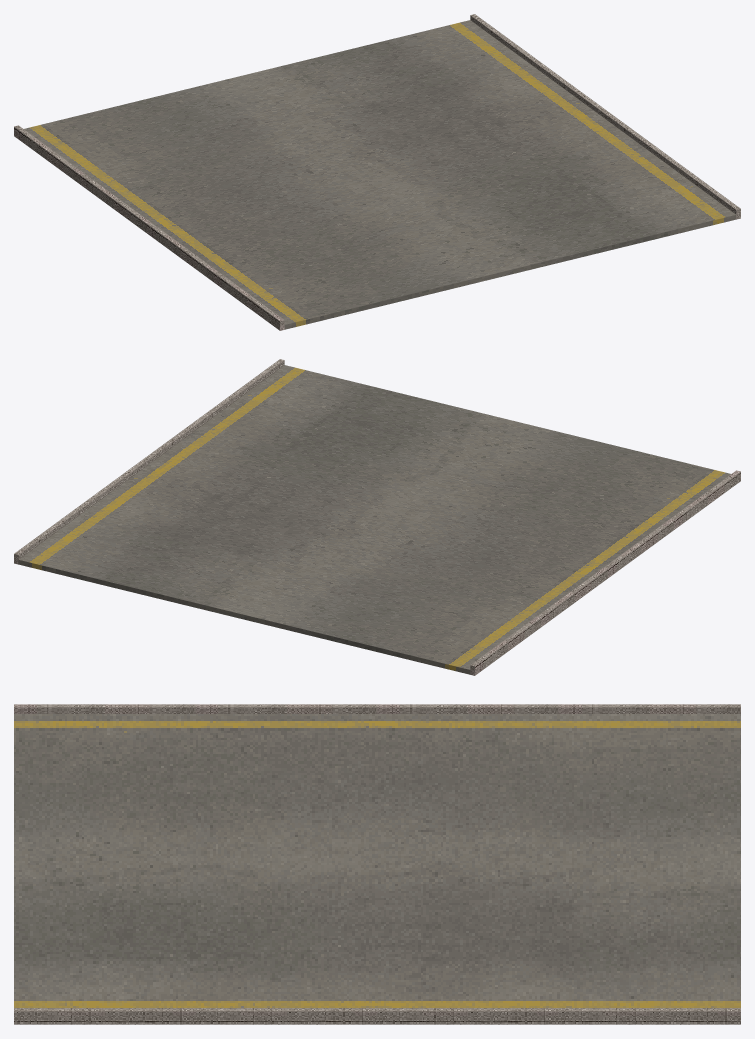
Rendered from road_2_straight_no_sides.glb.
3 renders of one model, top to bottom at view 1: azimuth 30°, elevation 25°; view 2: azimuth 150°, elevation 25°; view 3: azimuth 270°, elevation 25°, orthographic. The views are drawn at different scales.
Parts seen in each view (by area): view 1: road_2_straight_no_sides; view 2: road_2_straight_no_sides; view 3: road_2_straight_no_sides.
Part boxes in pixels (left/top/right/bottom): road_2_straight_no_sides: left=14, top=14, right=740, bottom=330; road_2_straight_no_sides: left=14, top=359, right=740, bottom=675; road_2_straight_no_sides: left=14, top=704, right=740, bottom=1024.
Size of the model in its own units: 16 by 0.32 by 16.
Materials: 2 (2 with a texture image).
